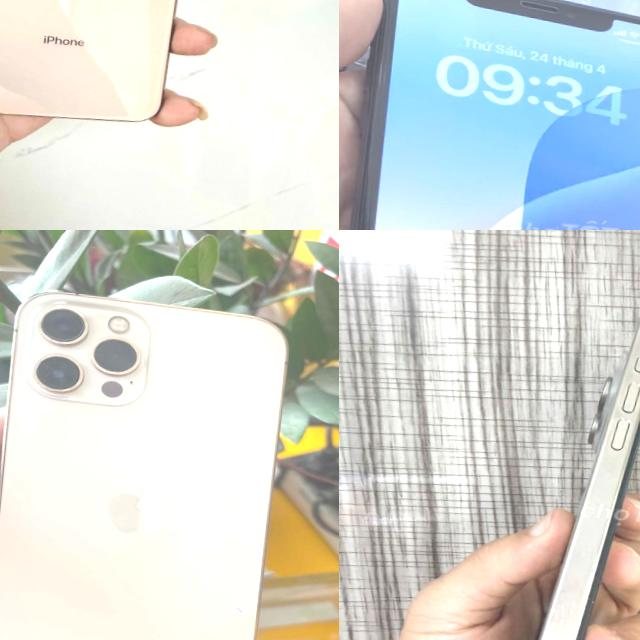gen_12_13: (0, 278, 299, 640)
gen_15: (518, 287, 640, 640)
gen_x_xs: (339, 0, 640, 230), (0, 0, 220, 164)
